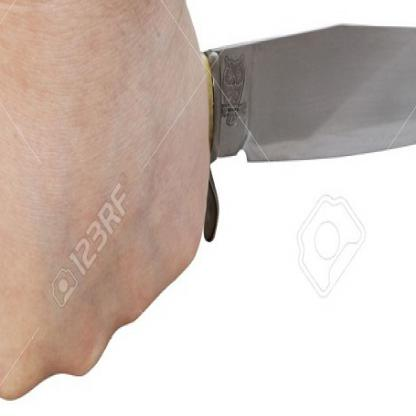knife: (107, 6, 415, 318)
